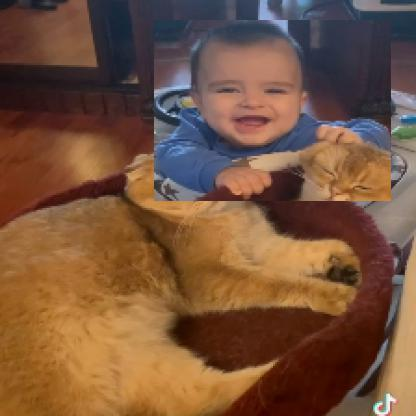child: (155, 22, 393, 204)
